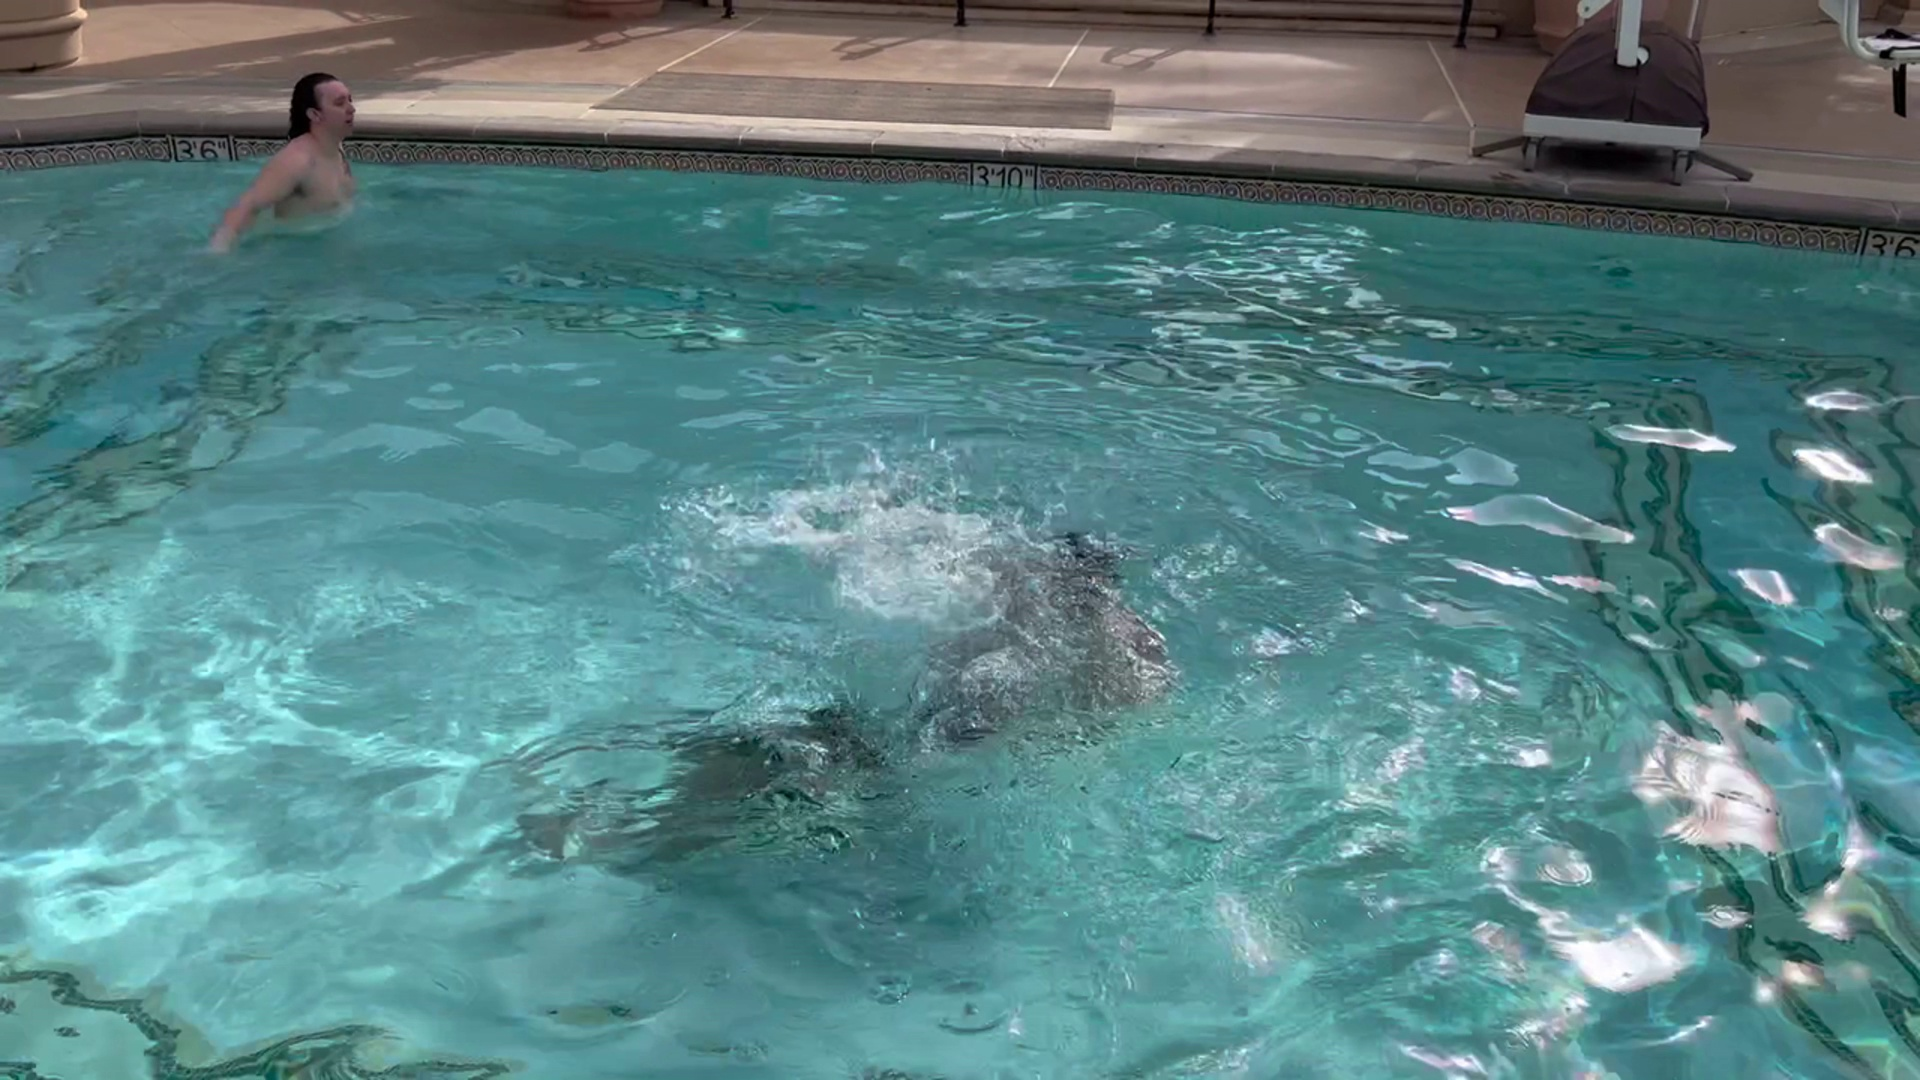danger: (692, 433, 1159, 676)
